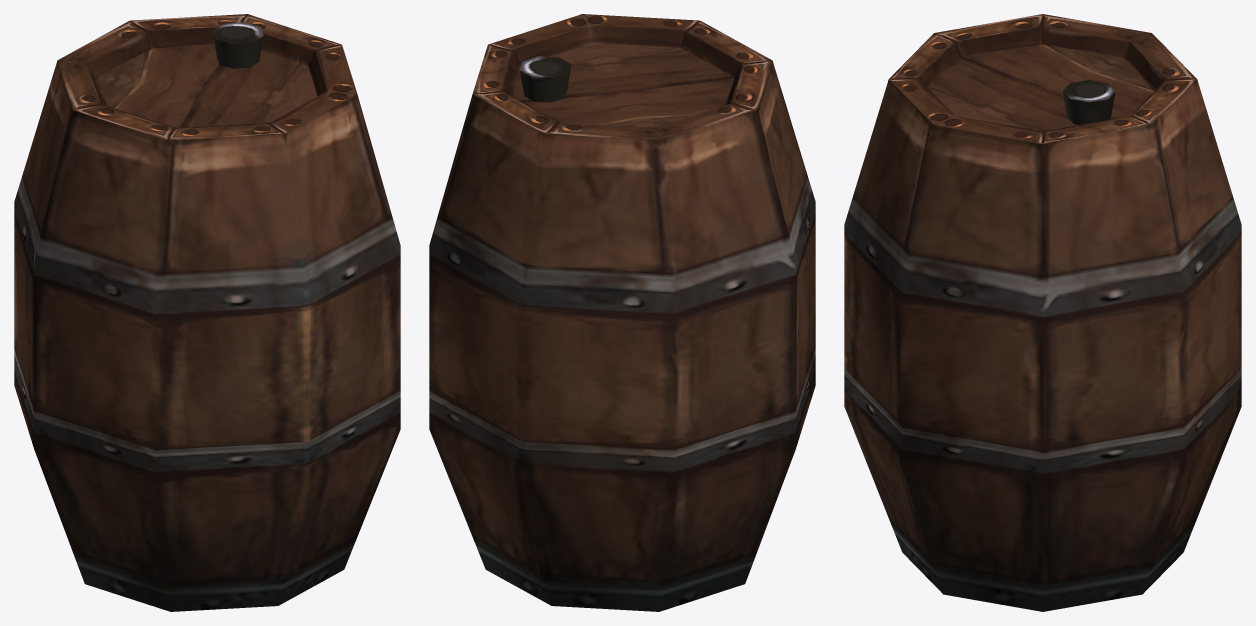
3 views of the same model, side by side, from view 1: azimuth 30°, elevation 25°; view 2: azimuth 150°, elevation 25°; view 3: azimuth 270°, elevation 25° (orthographic).
Parts seen in each view (by area): view 1: box_k003; view 2: box_k003; view 3: box_k003.
Part boxes in pixels (left/top/right/bottom): box_k003: left=14, top=14, right=400, bottom=611; box_k003: left=429, top=14, right=815, bottom=611; box_k003: left=844, top=14, right=1241, bottom=611.
Bounding box in the file's own units: 1.11 × 1.5 × 1.11.
